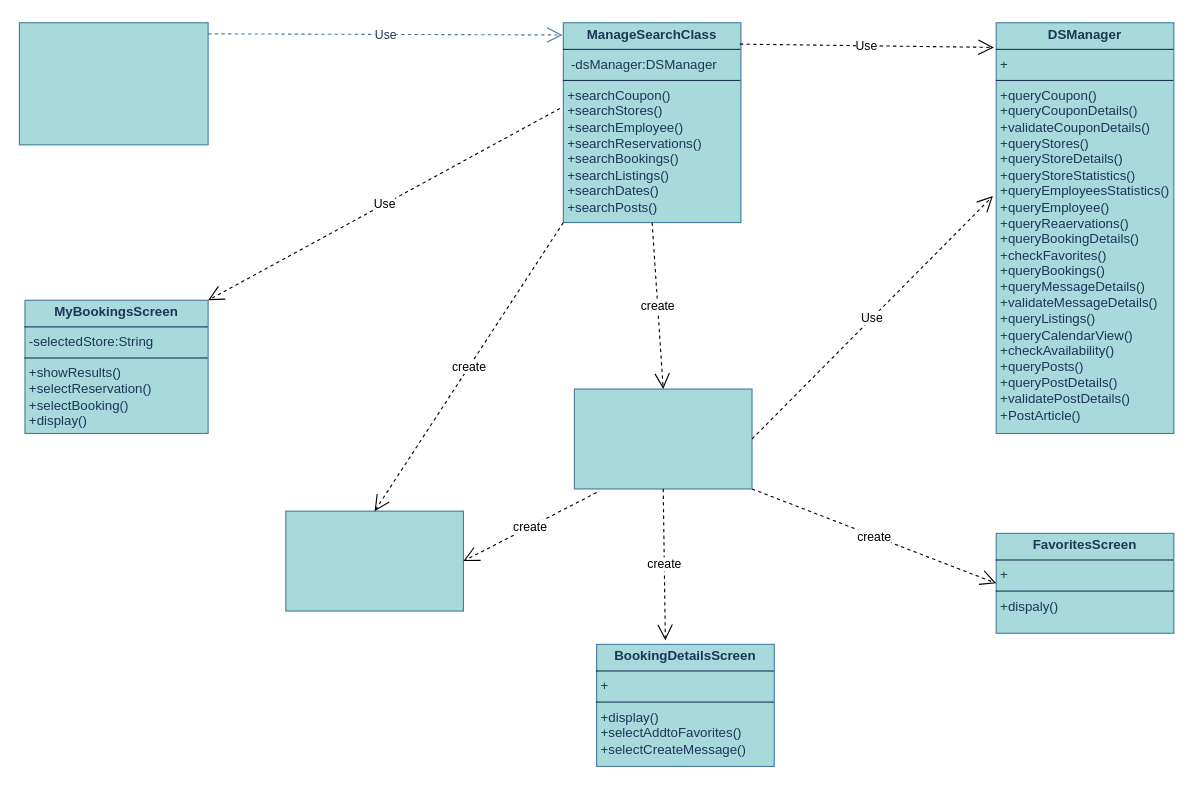
The diagram is 1193 pixels wide and 786 high, and some of its shapes have lost their labels. Here are the shapes that lost their labels. From the top down, the centre of each, then its label:
At (113,83): "CustomersMenuScreen + +display() +startSearch() +selectJoinOurTeam()".
At (662,438): "ManageFavoritesClass -dsManager:DSManager +ManageFavorites()".
At (374,560): "InfoScreen + +display()".
